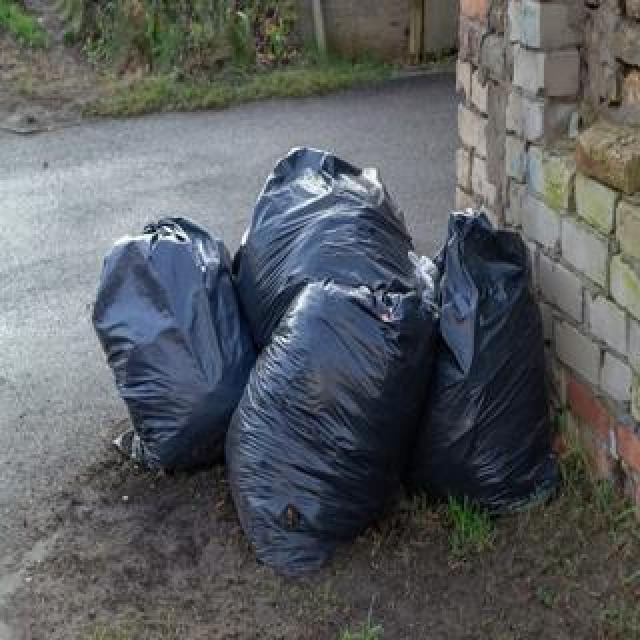Trashbag: (232, 266, 425, 586), (403, 208, 565, 516), (83, 216, 261, 470), (245, 153, 423, 357)
